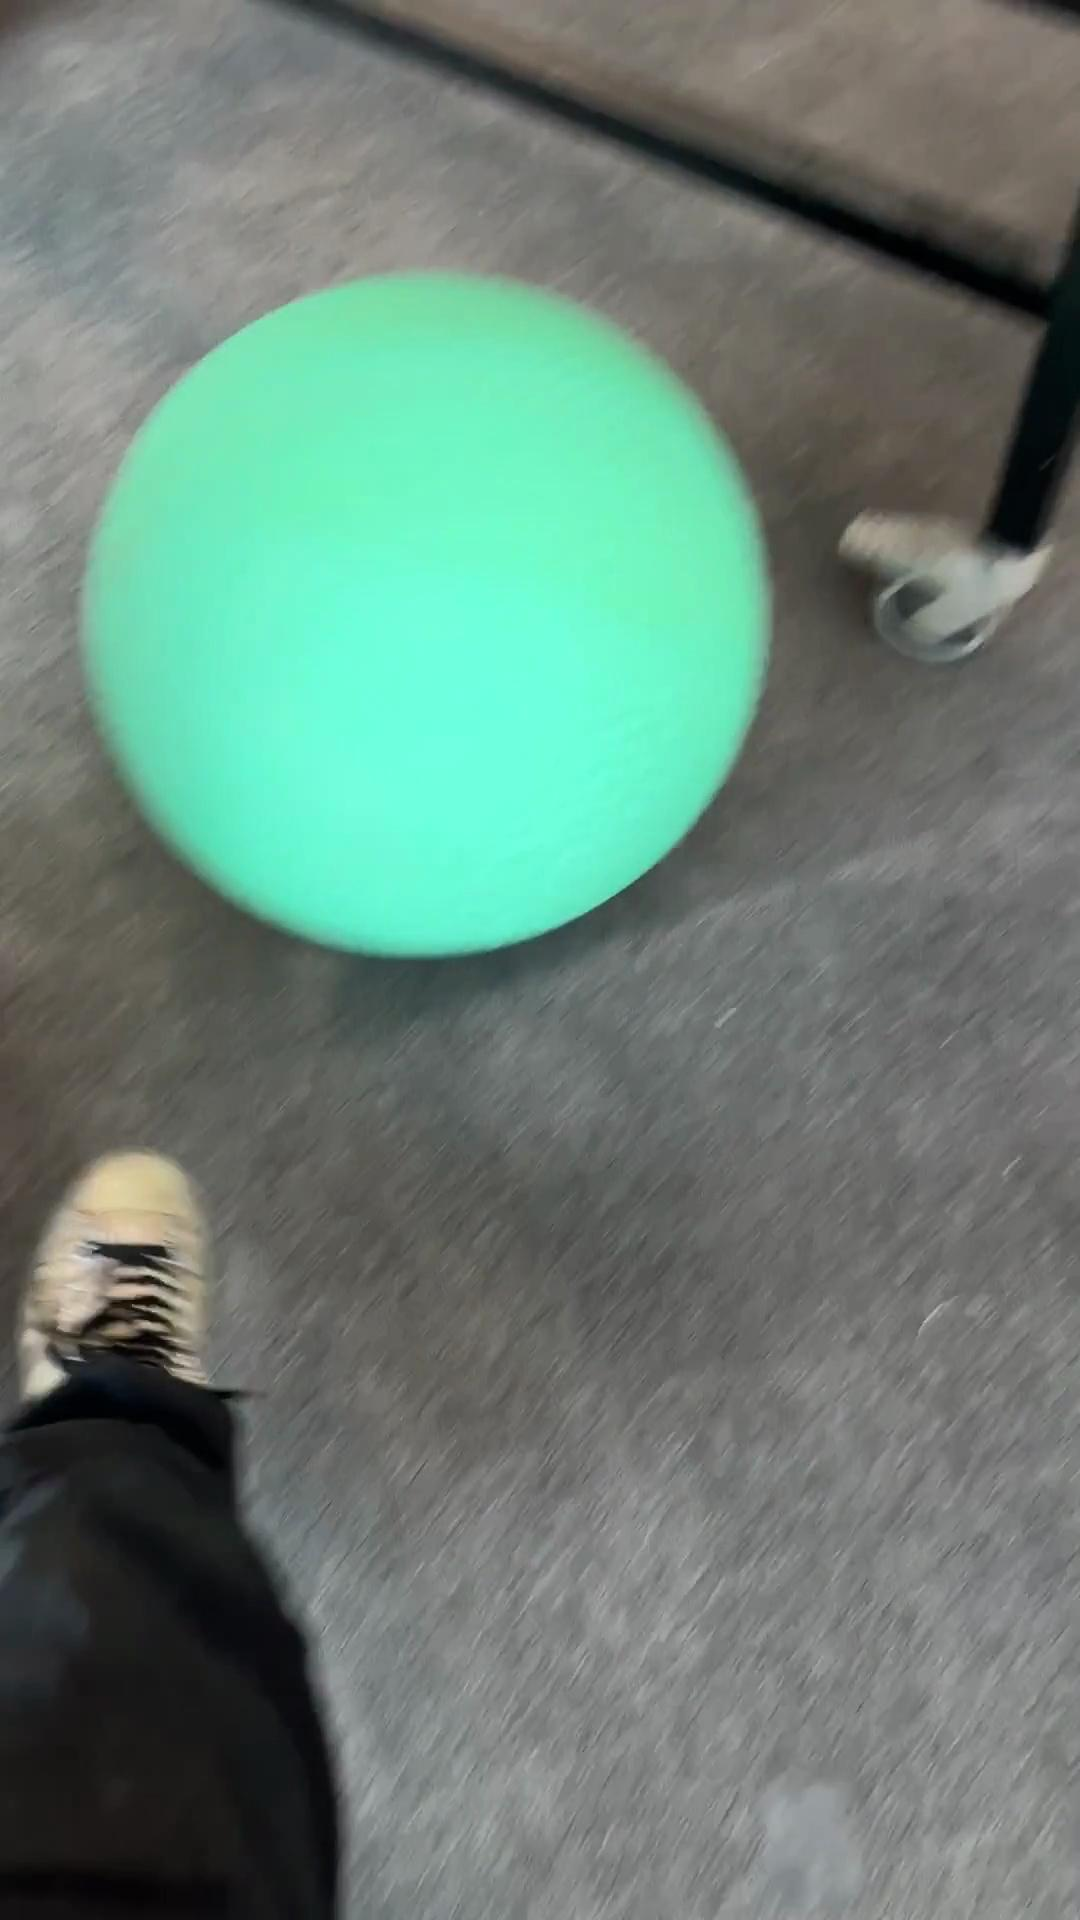ALGAE: (76, 265, 774, 963)
